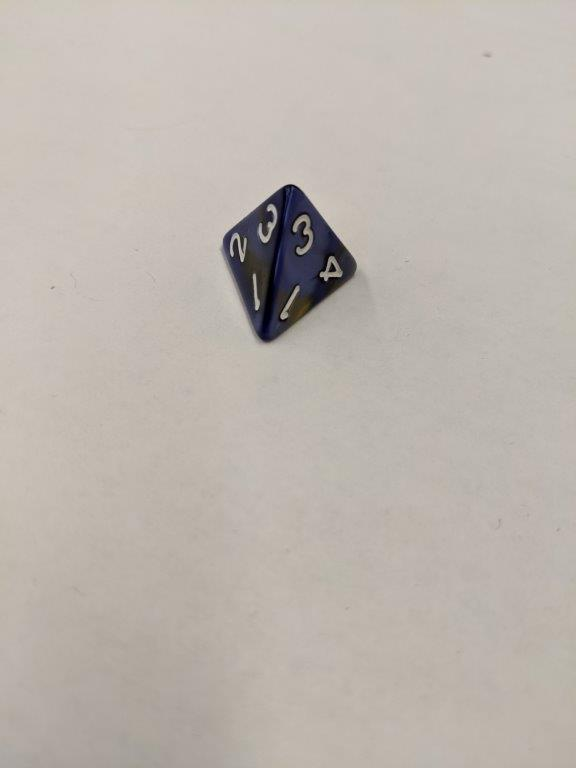d4-3: (218, 183, 357, 345)
